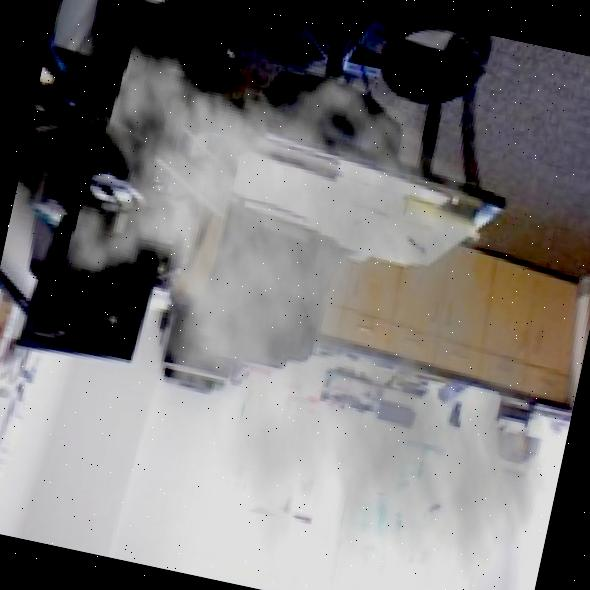smoke: (5, 0, 590, 590)
